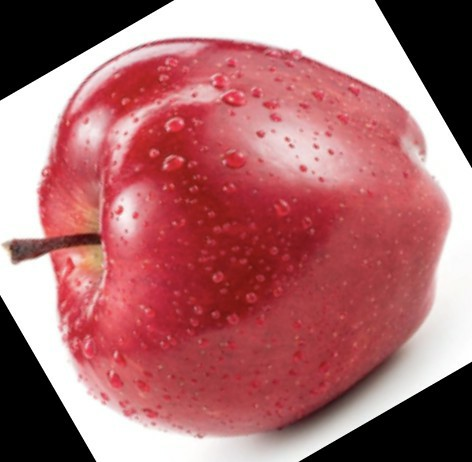fresh_apple: (39, 39, 448, 433)
